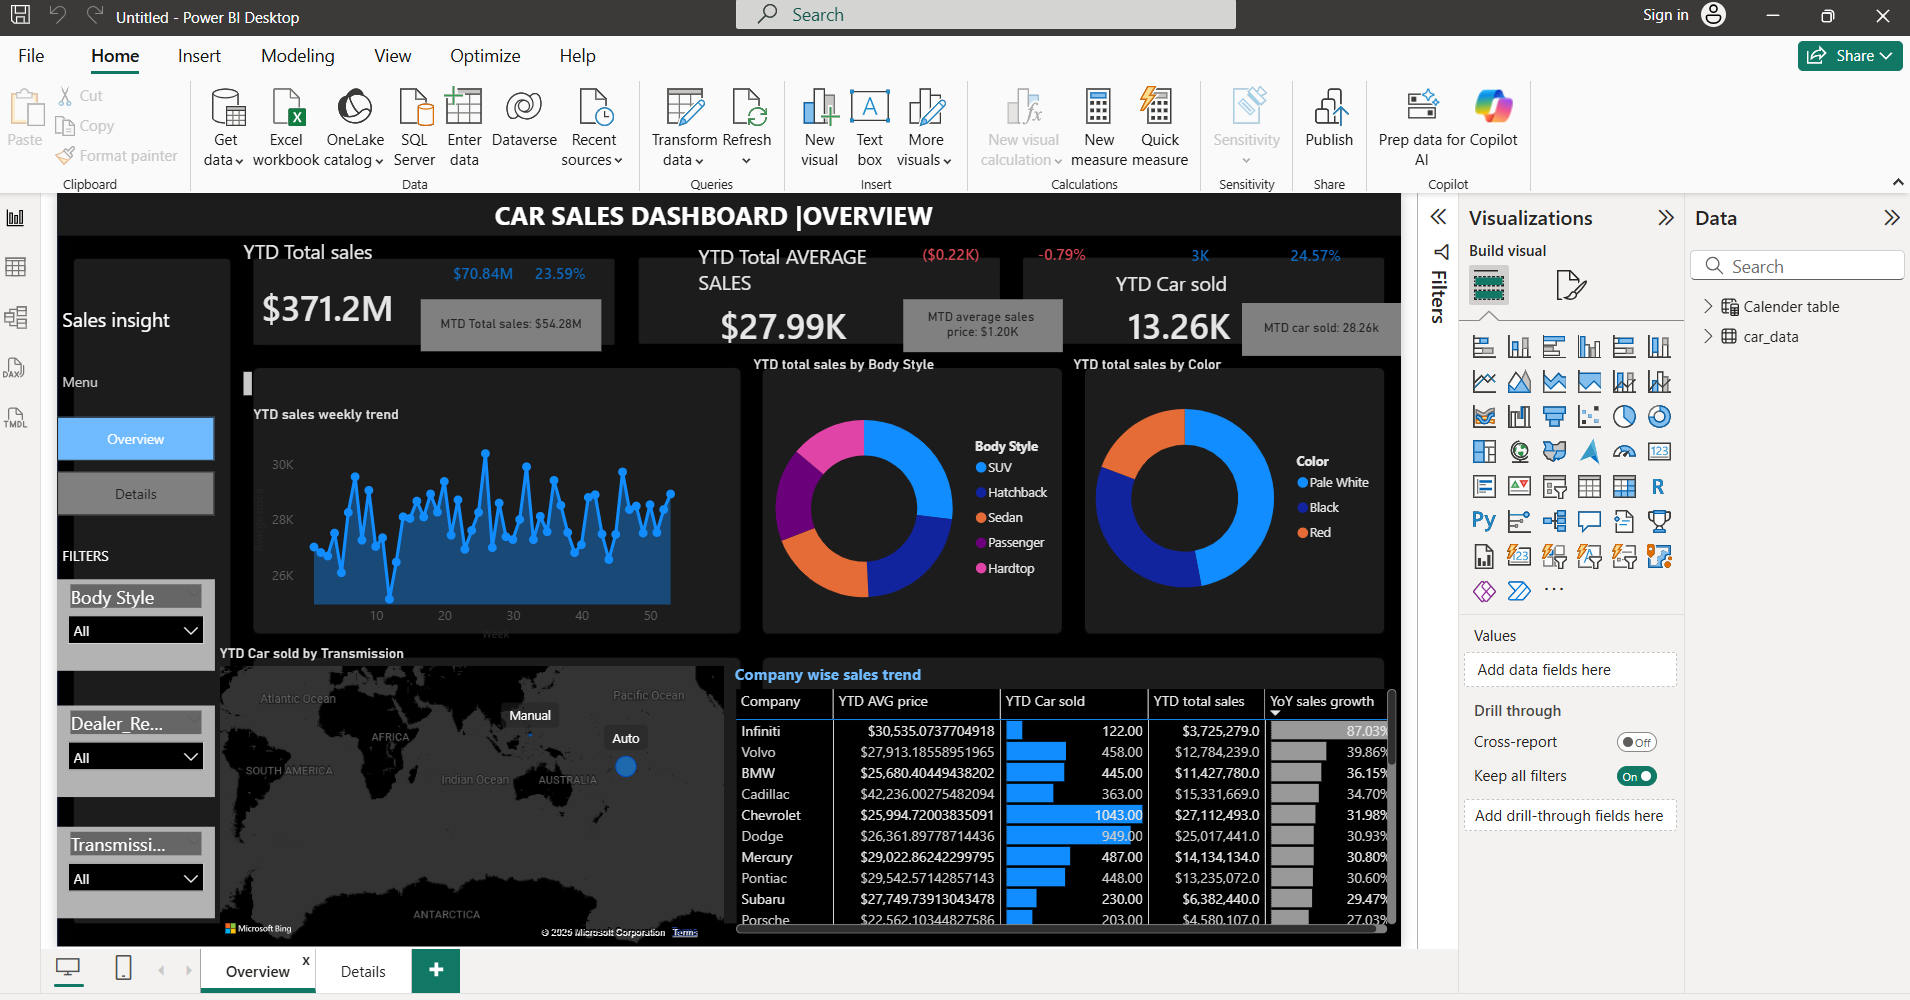

This screenshot's page, from the dashboard's own definition file:
{"tool":"powerbi","page":{"name":"Overview","canvas":[1280,720],"ordinal":0},"visuals":[{"type":"card","title":"YTD Total sales","fields":{"Values":["car_data.YTD total sales"]},"box":[172.6,42.9,170.2,108.3],"z":0},{"type":"card","fields":{"Values":["car_data.Difference"]},"box":[361,61.2,91.2,36.2],"z":1000},{"type":"card","fields":{"Values":["car_data.YoY sales growth"]},"box":[442.2,61.2,76.2,36.2],"z":2000},{"type":"card","fields":{"Values":["car_data.MTD KPI"]},"box":[346,101.2,172.4,50],"z":3000},{"type":"card","title":"YTD Total AVERAGE SALES","fields":{"Values":["car_data.YTD AVG price"]},"box":[605.8,47.5,171.1,108.7],"z":4000},{"type":"card","fields":{"Values":["car_data.Average price difference"]},"box":[805.6,42.5,91.2,36.2],"z":5000},{"type":"card","fields":{"Values":["car_data.YOY average price growth"]},"box":[911.8,42.5,91.2,36.2],"z":6000},{"type":"card","fields":{"Values":["Min(car_data.MTD Average KPI)"]},"box":[805.8,101.1,151.6,50.5],"z":7000},{"type":"card","title":"YTD Car sold ","fields":{"Values":["car_data.YTD Car sold"]},"box":[1003.7,74.4,130.6,81.4],"z":8000},{"type":"card","fields":{"Values":["car_data.Car sold difference"]},"box":[1044.4,43.5,89.8,35.1],"z":9000},{"type":"card","fields":{"Values":["car_data.YOY car sold growth"]},"box":[1134.3,43.5,129.2,35.1],"z":10000},{"type":"areaChart","title":"YTD sales weekly trend","fields":{"Category":["Calender table.Week"],"Y":["car_data.Averge price"]},"box":[182.5,203.6,424,227.4],"z":11000},{"type":"donutChart","fields":{"Category":["car_data.Body Style"],"Y":["car_data.YTD total sales"]},"box":[658.4,155.8,299,275.1],"z":12000},{"type":"donutChart","fields":{"Y":["car_data.YTD total sales"],"Category":["car_data.Color"]},"box":[963,155.8,300.4,255.5],"z":13000},{"type":"map","fields":{"Category":["car_data.Transmission"],"Size":["car_data.YTD Car sold"]},"box":[150.2,431,489.9,289.2],"z":14000},{"type":"card","fields":{"Values":["car_data.MTD Car sold KPI"]},"box":[1128.7,105.3,151.6,50.5],"z":15000},{"type":"tableEx","title":"Company wise sales trend","fields":{"Values":["car_data.Company","car_data.YTD AVG price","car_data.YTD Car sold","car_data.YTD total sales","car_data.YoY sales growth"]},"box":[640.1,447.8,640.1,262.5],"z":16000},{"type":"textbox","box":[411.3,0,523.6,51.9],"z":16001},{"type":"slicer","fields":{"Values":["car_data.Body Style"]},"box":[0,367.8,150.2,87],"z":16002},{"type":"slicer","fields":{"Values":["car_data.Dealer_Region"]},"box":[0,488.5,150.2,87],"z":16003},{"type":"slicer","fields":{"Values":["car_data.Transmission"]},"box":[0,603.6,150.2,87],"z":16004},{"type":"textbox","box":[0,331.3,119.3,36.5],"z":16005},{"type":"textbox","box":[0,102.5,140.4,35.1],"z":16006},{"type":"pageNavigator","box":[0,213.4,150.2,95.5],"z":16007},{"type":"textbox","box":[0,165.7,190.9,37.9],"z":16008}]}

Visuals, with their boxes on the page's 1280x720 design canvas (x1, y1, x2, y2). These are canvas units, not pixel positions in the 1910x1000 screenshot, which may show the page scaled, cropped or inside an application window:
"YTD Total sales" card: 173, 43, 343, 151
card - car_data.Difference: 361, 61, 452, 97
card - car_data.YoY sales growth: 442, 61, 518, 97
card - car_data.MTD KPI: 346, 101, 518, 151
"YTD Total AVERAGE SALES" card: 606, 48, 777, 156
card - car_data.Average price difference: 806, 42, 897, 79
card - car_data.YOY average price growth: 912, 42, 1003, 79
card - Min(car_data.MTD Average KPI): 806, 101, 957, 152
"YTD Car sold " card: 1004, 74, 1134, 156
card - car_data.Car sold difference: 1044, 44, 1134, 79
card - car_data.YOY car sold growth: 1134, 44, 1264, 79
"YTD sales weekly trend" areaChart: 182, 204, 606, 431
donutChart - car_data.Body Style x car_data.YTD total sales: 658, 156, 957, 431
donutChart - car_data.YTD total sales x car_data.Color: 963, 156, 1263, 411
map - car_data.Transmission x car_data.YTD Car sold: 150, 431, 640, 720
card - car_data.MTD Car sold KPI: 1129, 105, 1280, 156
"Company wise sales trend" tableEx: 640, 448, 1280, 710
textbox: 411, 0, 935, 52
slicer - car_data.Body Style: 0, 368, 150, 455
slicer - car_data.Dealer_Region: 0, 488, 150, 576
slicer - car_data.Transmission: 0, 604, 150, 691
textbox: 0, 331, 119, 368
textbox: 0, 102, 140, 138
pageNavigator: 0, 213, 150, 309
textbox: 0, 166, 191, 204
